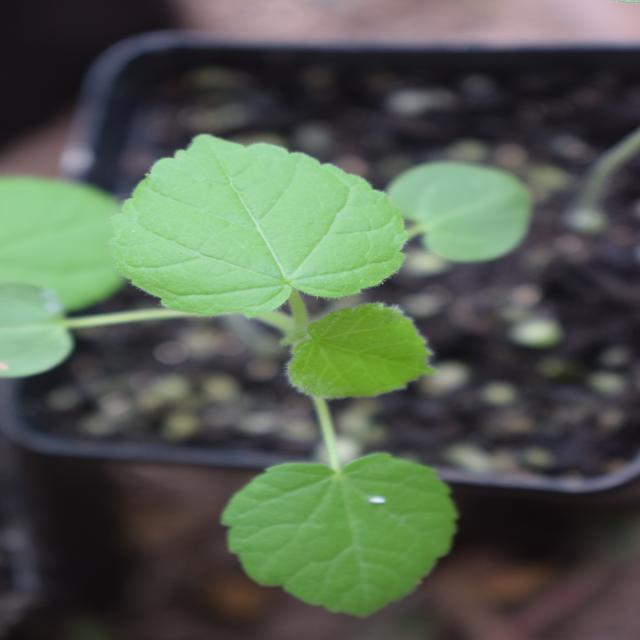abutilon theophrasti: (32, 77, 510, 551)
